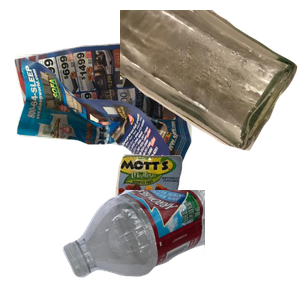glass: (120, 10, 300, 153)
paper: (12, 31, 196, 204)
plastic: (60, 190, 300, 280)
trash: (105, 152, 280, 300)
